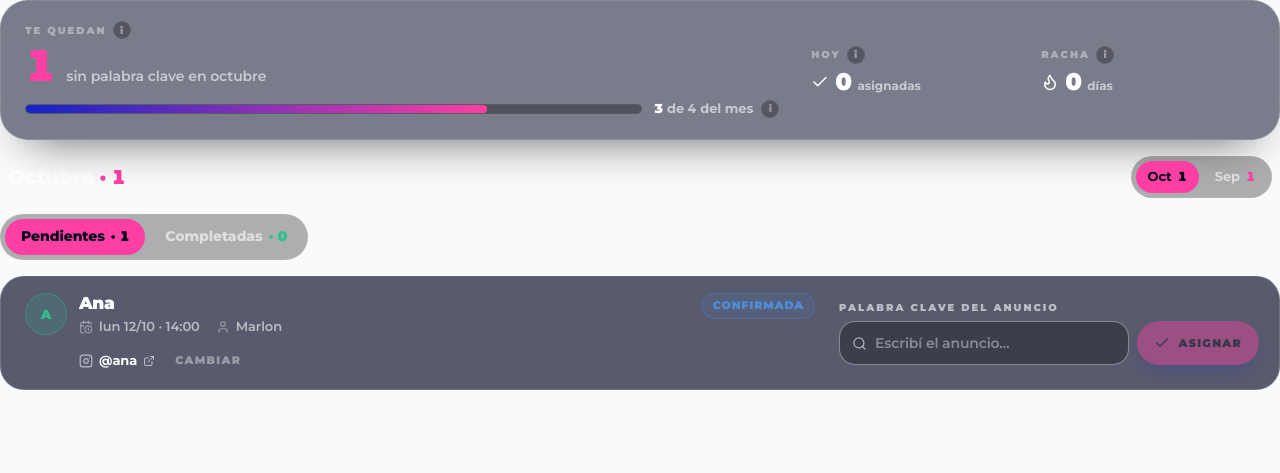
Test: MisAgendas · pendientes y completadas › un mes sin completadas lo dice con calma
Check: the element named "Tu avance" is shown, box [0,0,1279,140]
Click the tab "Completadas · 0".
click(226, 236)  # box [149,218,303,254]
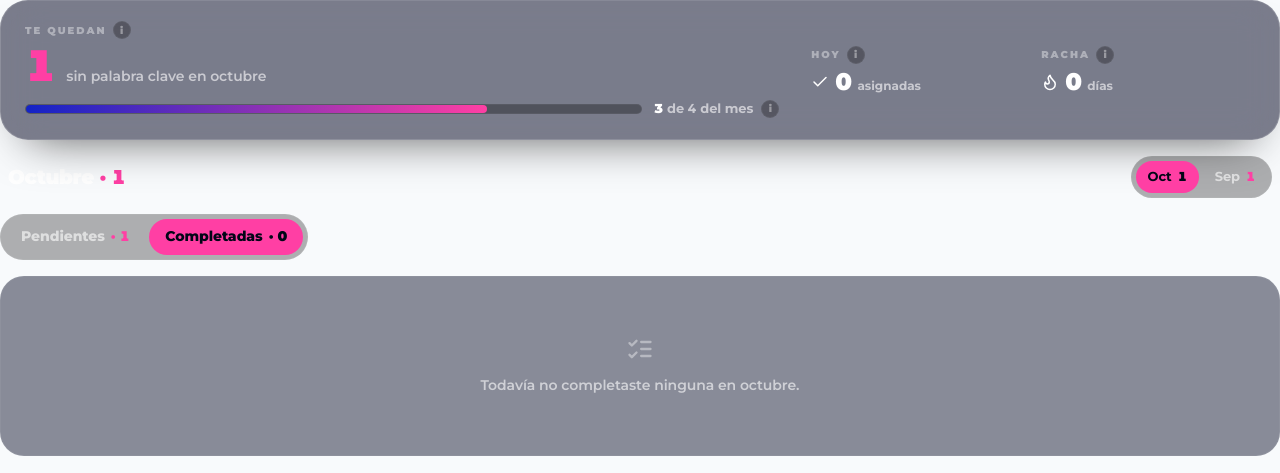
Check: the text "Todavía no completaste ninguna en octubre." is shown, box [480,375,799,396]
